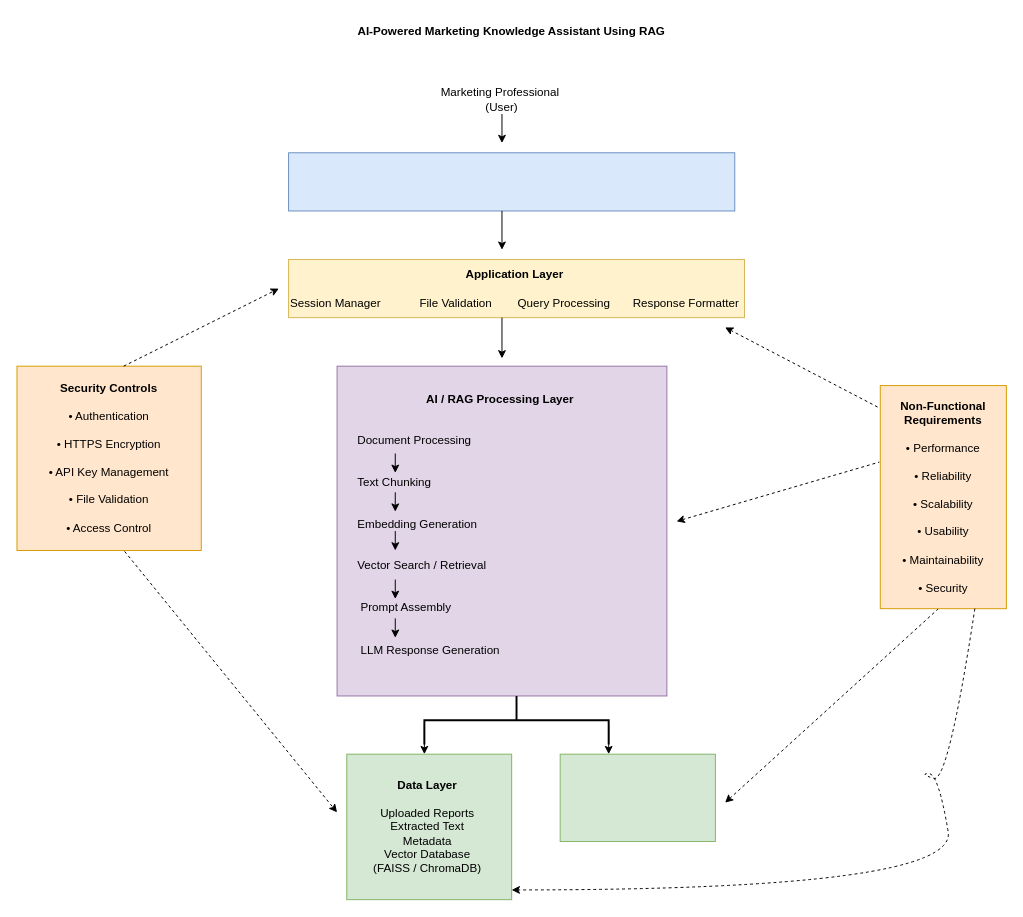
The diagram is 1023 pixels wide and 917 high, and some of its shapes have lost their labels. Here are the shapes that lost their labels. From the top down, the centre of each, then its label:
At point (511, 181): "Presentation Layer Login Upload Marketing Reports Ask Questions View Results".
At point (637, 797): "External Services OpenAI API (LLM & Embeddings)".
